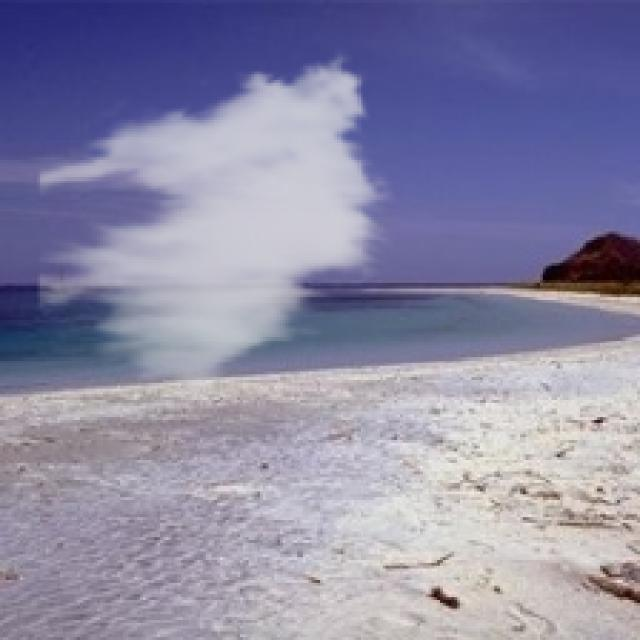Smoke: (37, 46, 394, 400)
